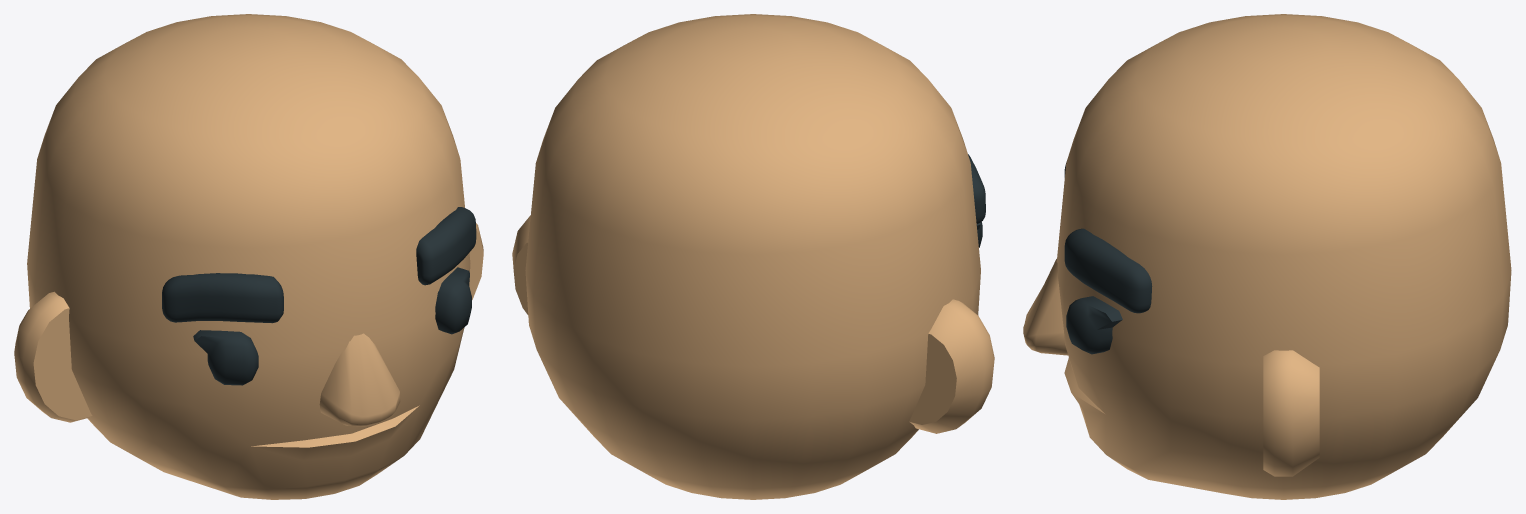
The model's file is mageHeadC.fbx.
The picture shows the model from 3 angles, left to right: view 1: azimuth 30°, elevation 25°; view 2: azimuth 150°, elevation 25°; view 3: azimuth 270°, elevation 25°; orthographic projection. The views are drawn at different scales.
Parts seen in each view (by area): view 1: mageHeadC; view 2: mageHeadC; view 3: mageHeadC.
Boxes of the visible parts, <box> form: mageHeadC: <box>14,14,483,499</box>; mageHeadC: <box>512,14,994,499</box>; mageHeadC: <box>1023,14,1511,499</box>.
Bounding box in the file's own units: 1.18 × 0.9703 × 1.05.
